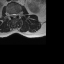CCS_normal: (13, 11, 15, 19)
LFS_normal: (16, 11, 18, 16)
LLS_normal: (15, 11, 16, 18)
RFS_normal: (9, 11, 11, 17)
RLS_normal: (11, 11, 13, 18)
